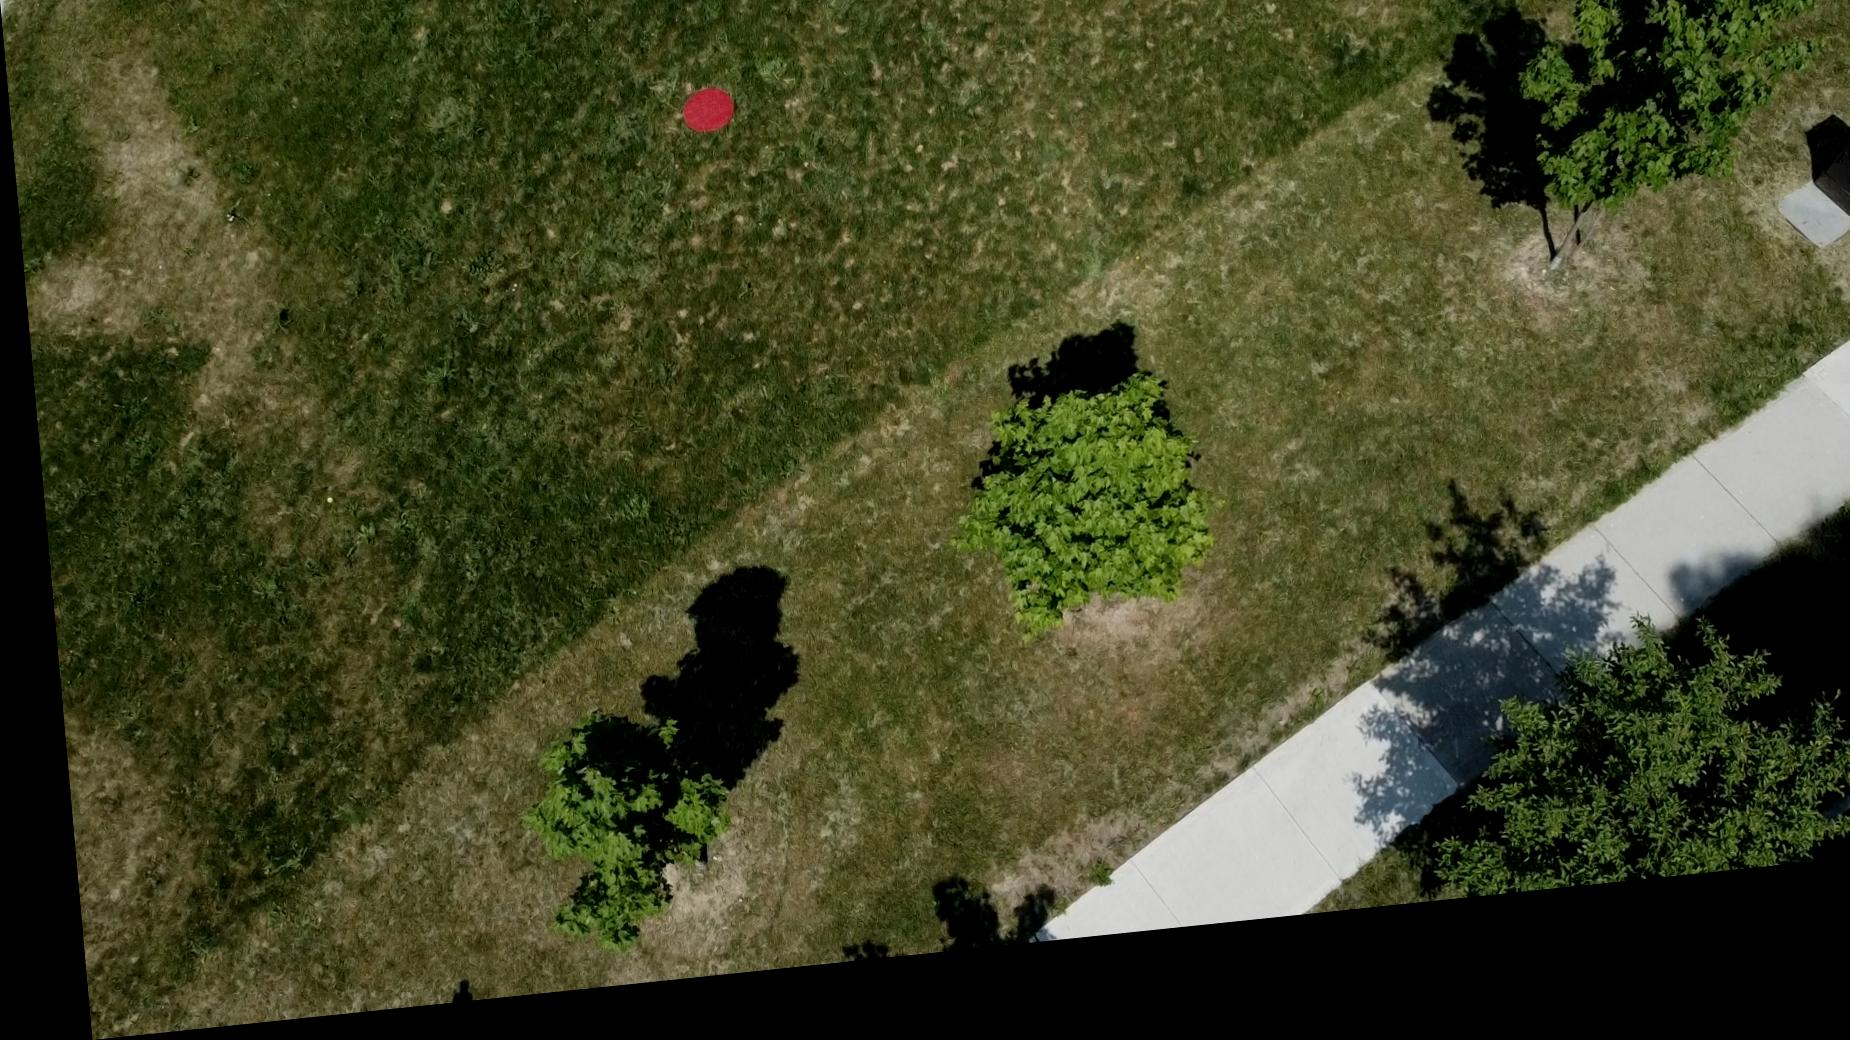Red: (673, 100, 737, 151)
